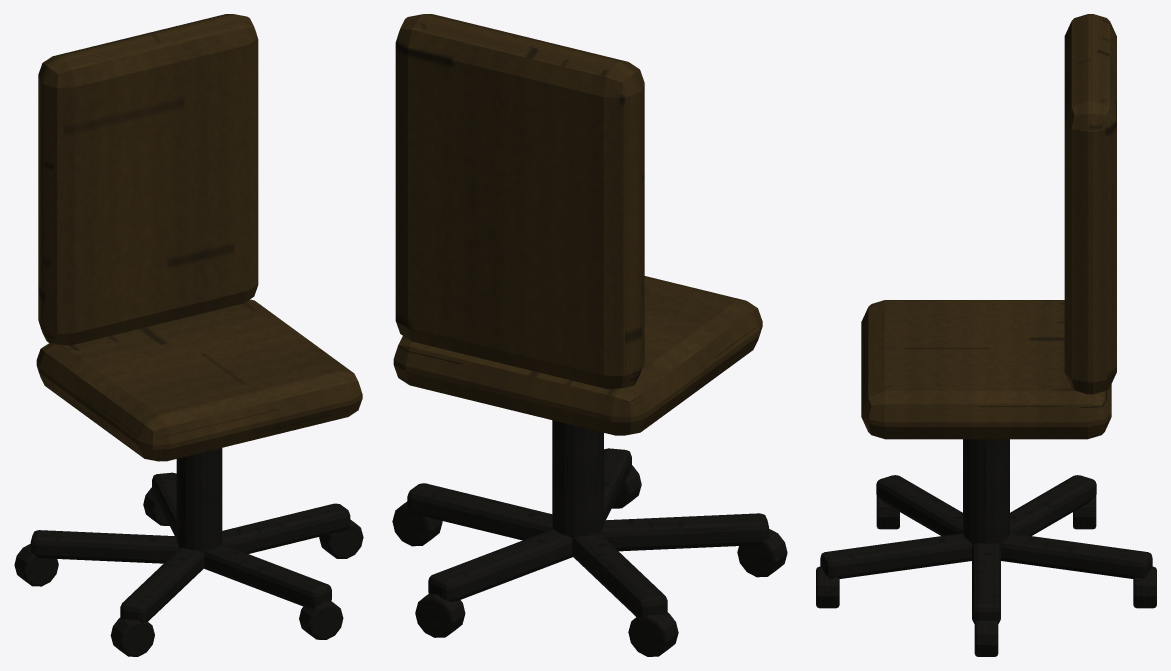
Rendered from recursive-chair.glb.
3 views of the same model, side by side, from view 1: azimuth 30°, elevation 25°; view 2: azimuth 150°, elevation 25°; view 3: azimuth 270°, elevation 25° (orthographic). The views are drawn at different scales.
Visible parts, largest first — view 1: SM_backrooms_recursive_chair_AnomalyChairFabric, SM_backrooms_recursive_chair_AnomalyDarkMetal; view 2: SM_backrooms_recursive_chair_AnomalyChairFabric, SM_backrooms_recursive_chair_AnomalyDarkMetal; view 3: SM_backrooms_recursive_chair_AnomalyChairFabric, SM_backrooms_recursive_chair_AnomalyDarkMetal.
Part boxes in pixels (box(x1,y1,x2,y2)): SM_backrooms_recursive_chair_AnomalyChairFabric: box(36, 14, 362, 461); SM_backrooms_recursive_chair_AnomalyDarkMetal: box(14, 448, 363, 656); SM_backrooms_recursive_chair_AnomalyChairFabric: box(393, 14, 762, 435); SM_backrooms_recursive_chair_AnomalyDarkMetal: box(392, 420, 787, 656); SM_backrooms_recursive_chair_AnomalyChairFabric: box(861, 14, 1116, 439); SM_backrooms_recursive_chair_AnomalyDarkMetal: box(816, 439, 1156, 656).
Bounding box in the file's own units: 0.6589 × 1.11 × 0.6537.
Materials: 2 (2 with a texture image).
